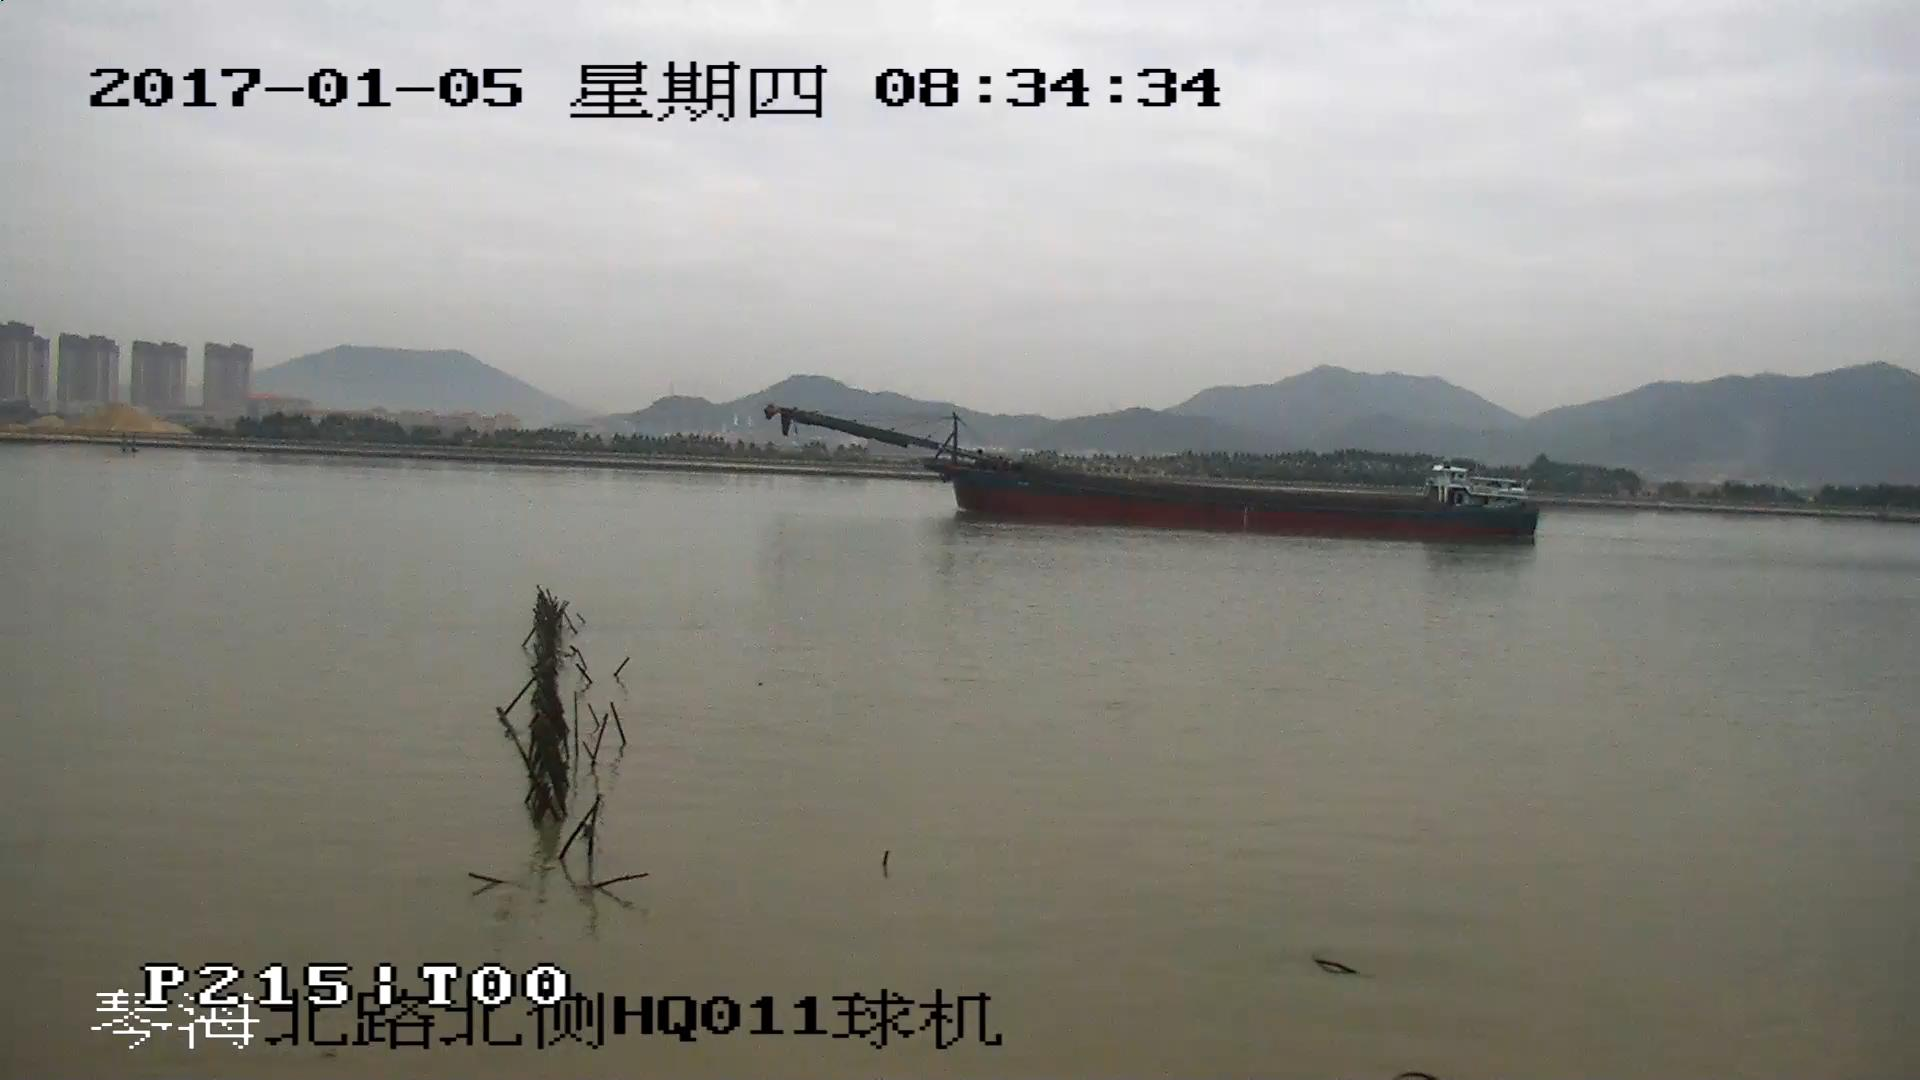bulk cargo carrier: (762, 404, 1535, 545)
